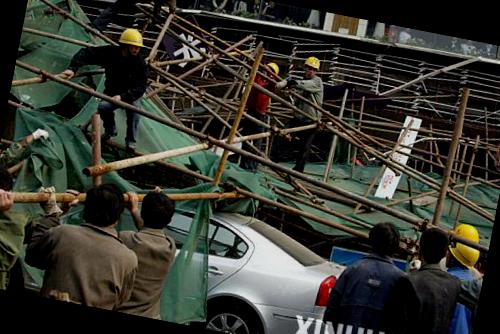no_helmet: (77, 177, 133, 233), (135, 183, 183, 237), (363, 214, 412, 260), (415, 222, 456, 268)
